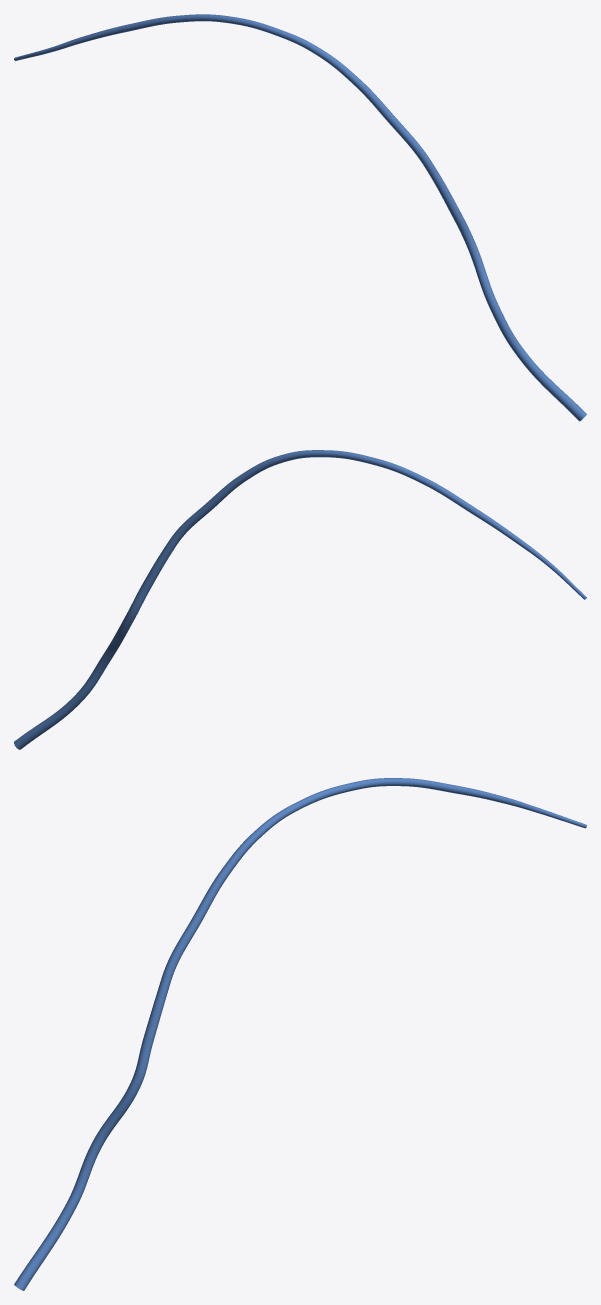
3 views of the same model, one above another, from view 1: azimuth 30°, elevation 25°; view 2: azimuth 210°, elevation 25°; view 3: azimuth 270°, elevation 25° (orthographic). The views are drawn at different scales.
Visible parts, largest first — view 1: 右肋下静脉; view 2: 右肋下静脉; view 3: 右肋下静脉.
Part boxes in pixels (x1,y1,x2,y2): 右肋下静脉: (14, 14, 586, 421); 右肋下静脉: (14, 450, 586, 749); 右肋下静脉: (14, 778, 586, 1290).
Size of the model in its own units: 0.0925 by 0.0954 by 0.1256.
